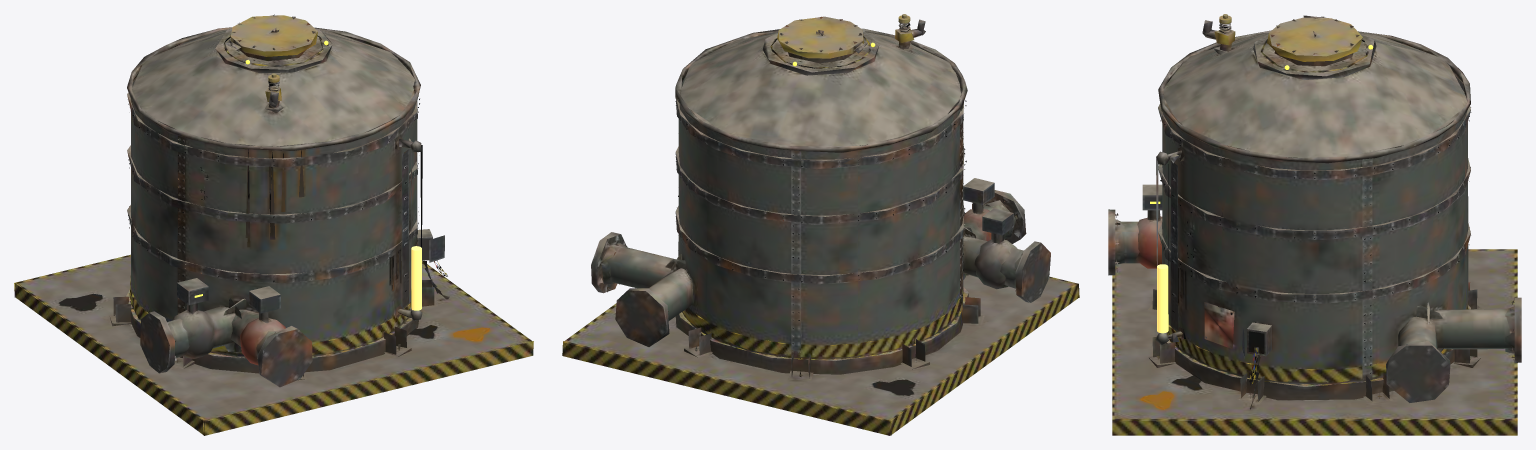
File: tanque.glb
The picture shows the model from 3 angles, left to right: view 1: azimuth 30°, elevation 25°; view 2: azimuth 150°, elevation 25°; view 3: azimuth 270°, elevation 25°; orthographic projection. The views are drawn at different scales.
Parts seen in each view (by area): view 1: tanque_corpo, nivel_seiva; view 2: tanque_corpo; view 3: tanque_corpo, nivel_seiva.
Boxes of the visible parts, x1,y1,x2,y2 form: tanque_corpo: [14, 14, 533, 435]; nivel_seiva: [411, 246, 421, 310]; tanque_corpo: [562, 16, 1079, 435]; tanque_corpo: [1108, 15, 1521, 435]; nivel_seiva: [1157, 264, 1168, 333].
Bounding box in the file's own units: 2 × 1.7 × 2.
3 materials, 1 textured.
